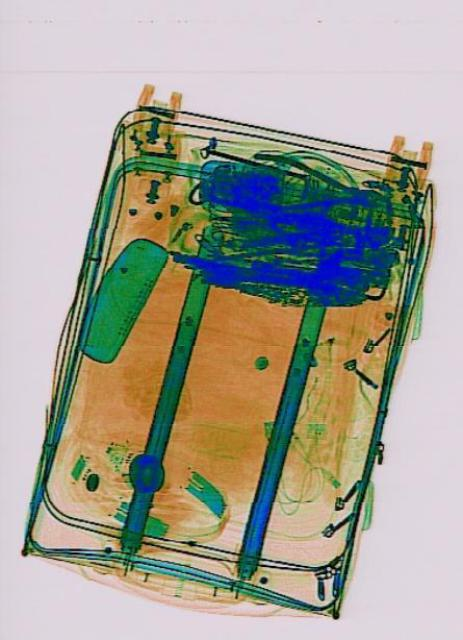Pliers: (248, 152, 381, 220)
